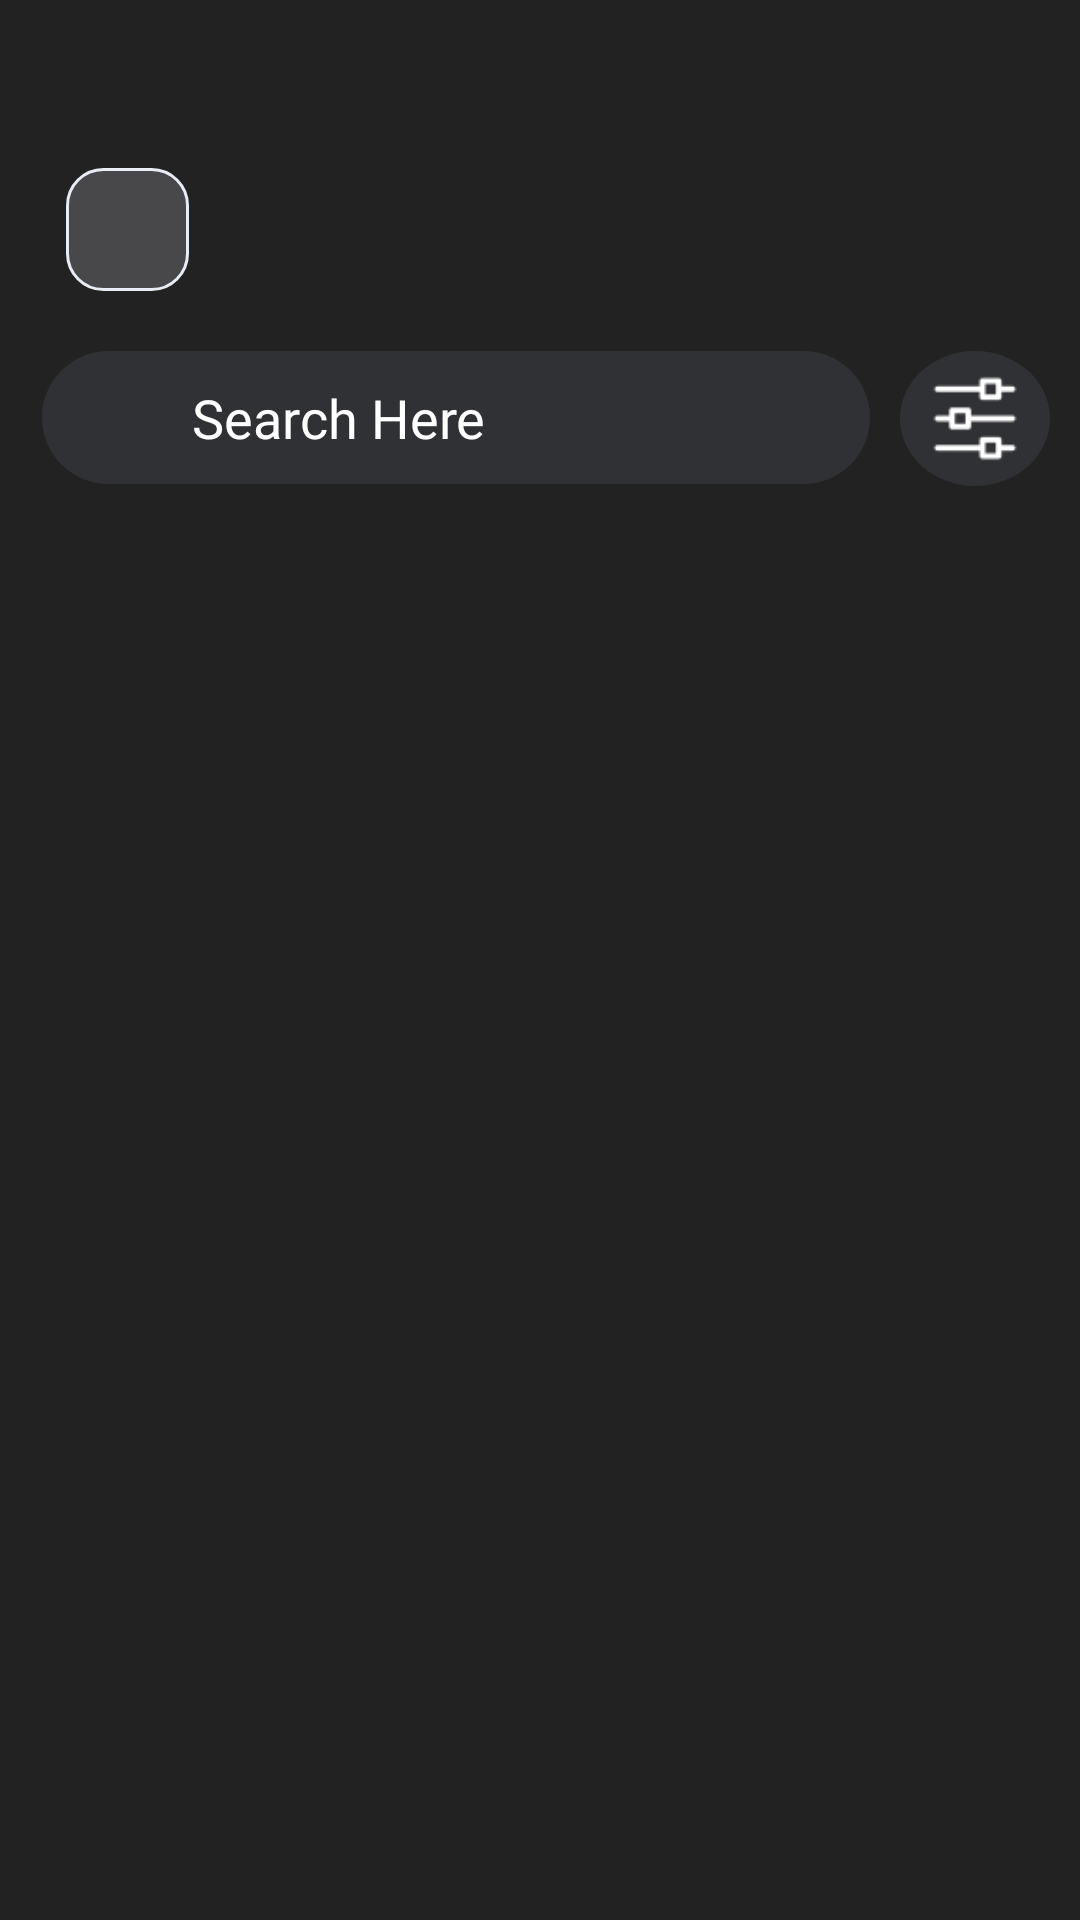

Where icons sit on this 1080×1920 app screen, as (x1, y1, x2, y2):
filternew: (900, 351, 1050, 486)
